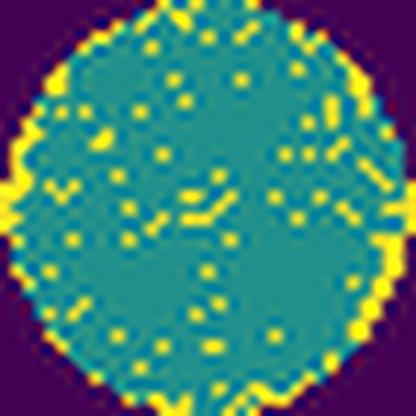Edge-Loc: (344, 166, 415, 342), (0, 102, 48, 240)
